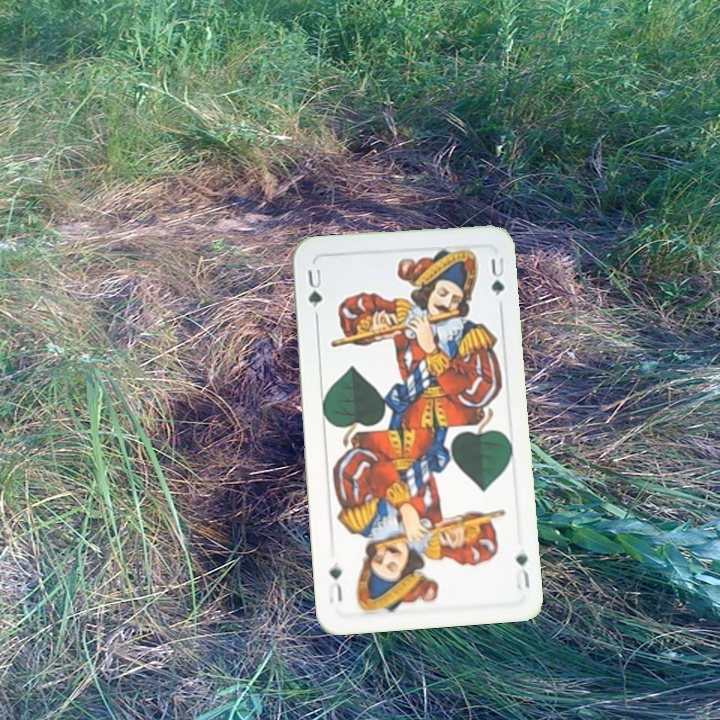GU: (303, 264, 325, 310), (511, 548, 532, 593)
